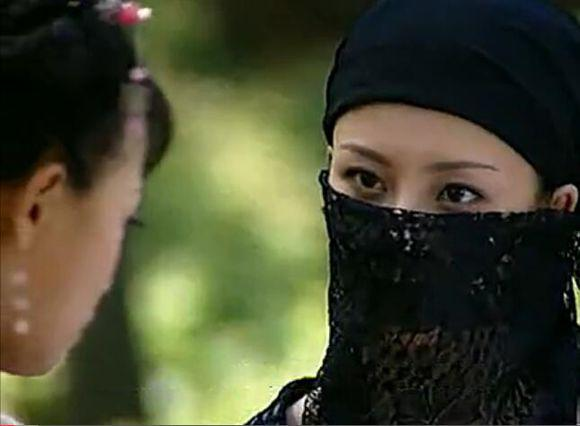NONE: (17, 163, 139, 387)
OK: (322, 139, 523, 340)
